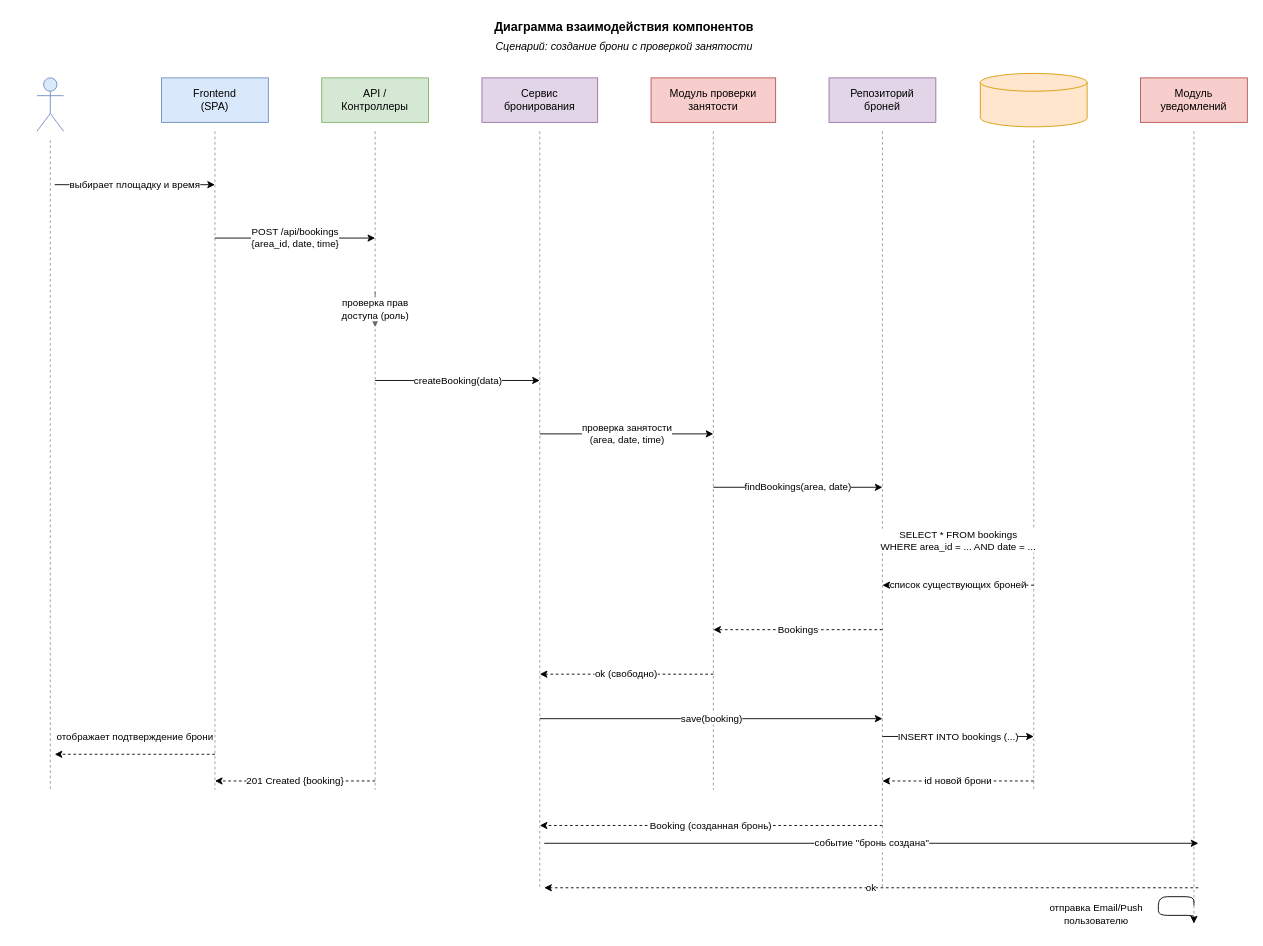
This 1263x946 diagram has some shape labels left out. Here are the shapes that lost their labels. From the top down, the centre of each, then its label:
At (x=50, y=104): "Пользователь".
At (x=1033, y=100): "База данных".
